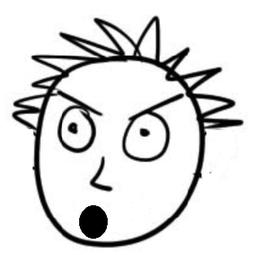eye: (117, 110, 172, 164), (52, 103, 98, 154)
frowning_eyebrow: (128, 94, 184, 119), (57, 90, 102, 118)
open_mouth: (78, 205, 110, 239)
pointy_nose: (86, 154, 119, 194)
